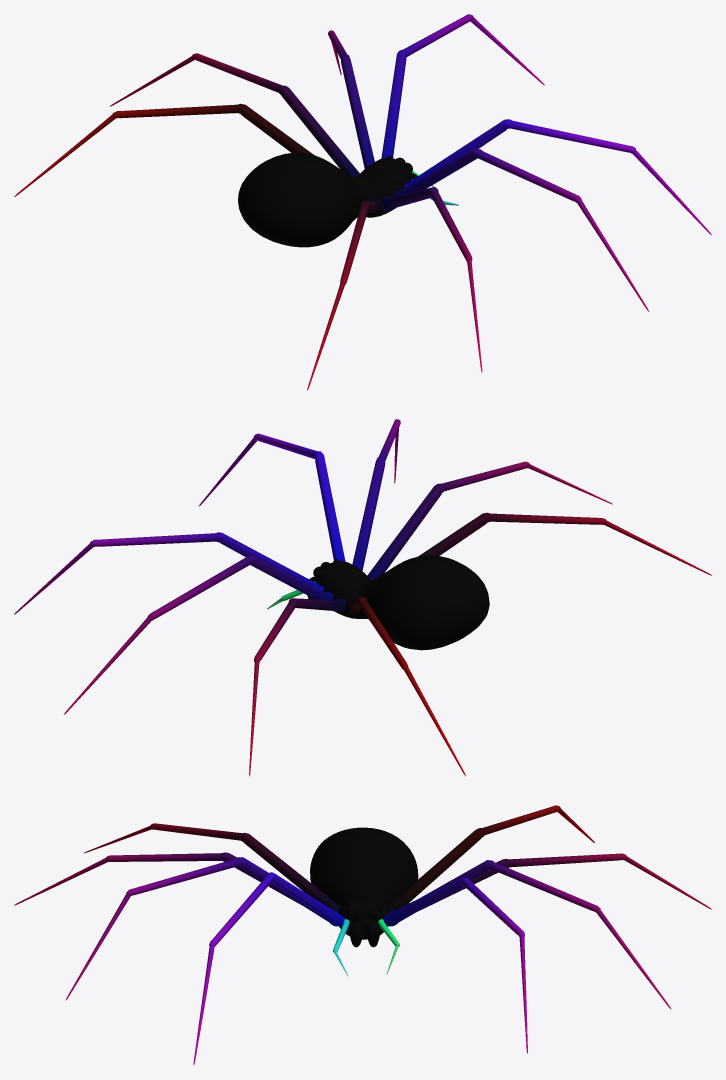
The model's file is spider-1-material.fbx.
The picture shows the model from 3 angles, top to bottom: view 1: azimuth 30°, elevation 25°; view 2: azimuth 150°, elevation 25°; view 3: azimuth 270°, elevation 25°; orthographic projection. The views are drawn at different scales.
Parts seen in each view (by area): view 1: spider1; view 2: spider1; view 3: spider1.
Part boxes in pixels (<box>): spider1: <box>14,14,711,390</box>; spider1: <box>14,419,711,776</box>; spider1: <box>14,805,711,1065</box>.
Bounding box in the file's own units: 24.56 × 5.93 × 31.87.
